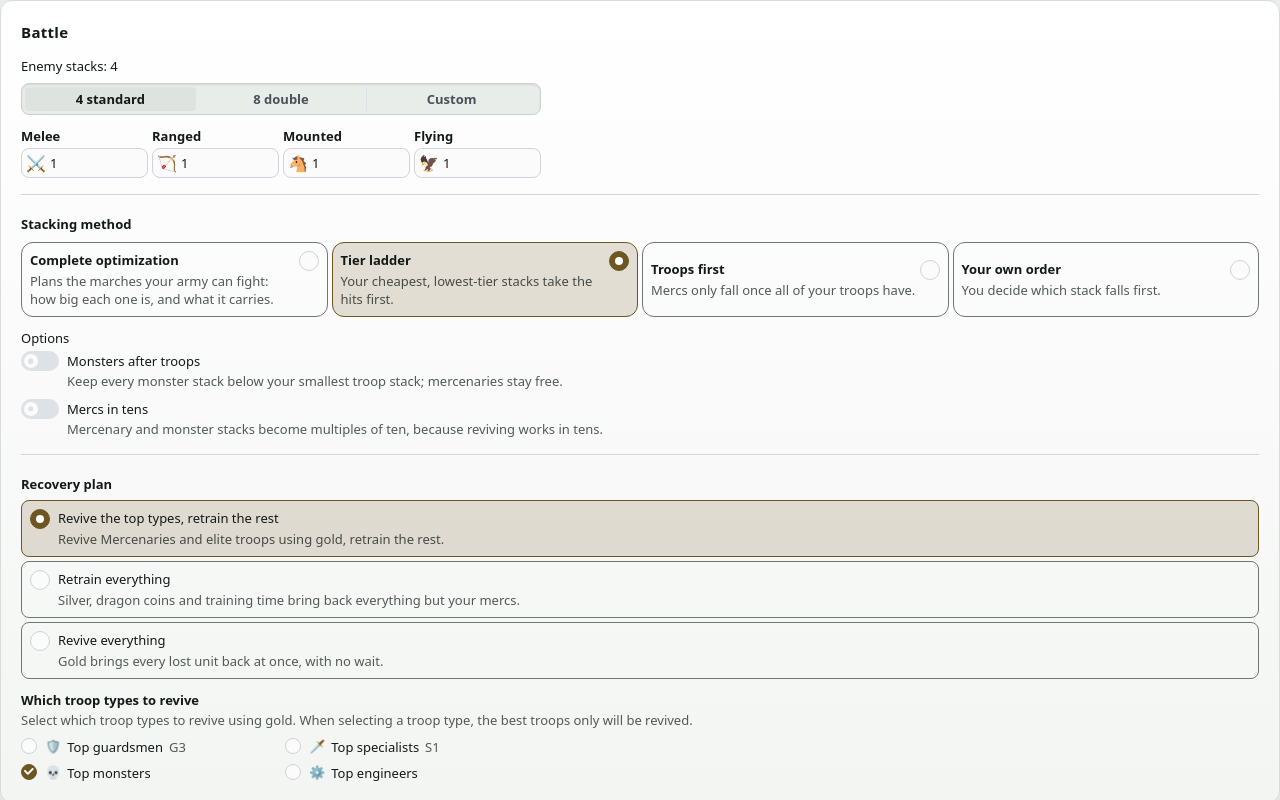
Scenario: a preset writes its squads and the caption counts them
The image size is (1280, 800).
expect the text "Enemy stacks: 4" is shown: met, box x1=21 y1=57 x2=118 y2=75
What coordinates should you click on to do the following:
click the radio button labelled "8 double"
I would click on:
 (281, 99)
Its box is x1=253 y1=90 x2=309 y2=108.
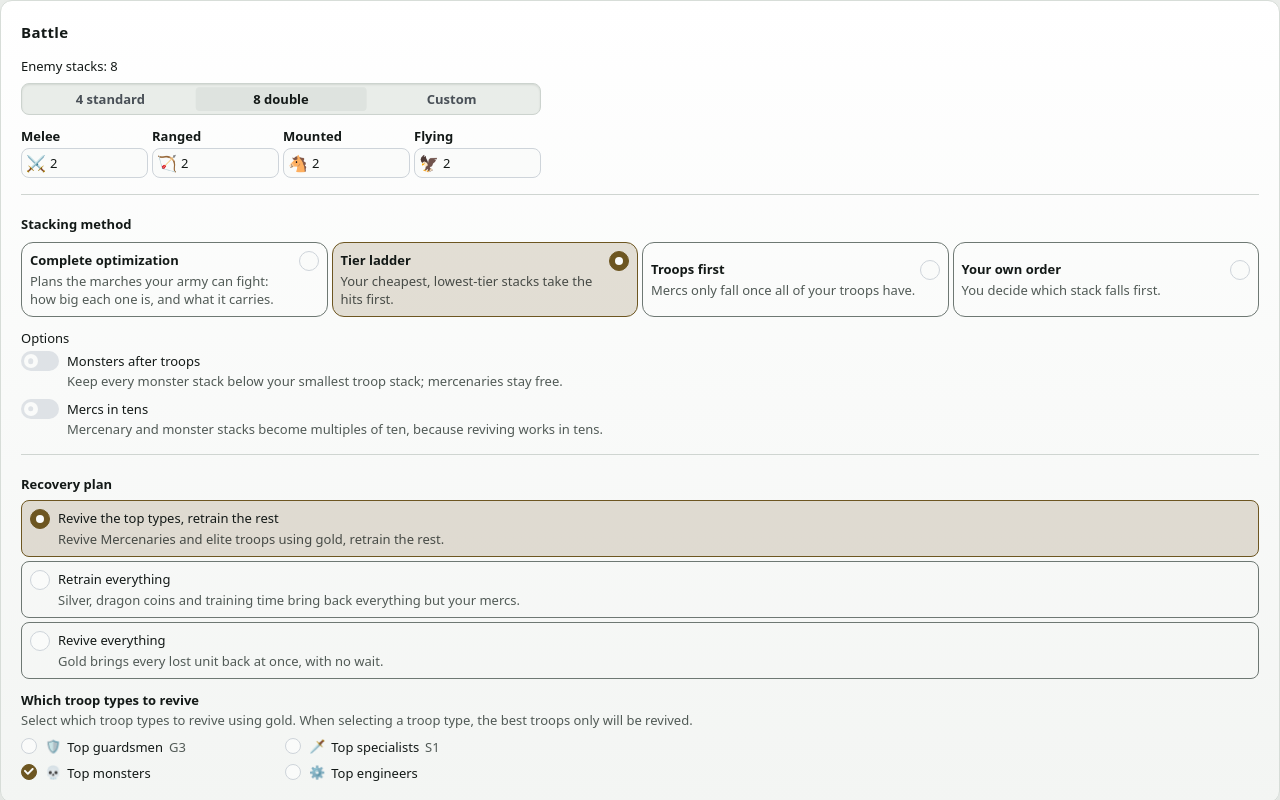
expect the text "Enemy stacks: 8" is shown: met, box x1=21 y1=57 x2=118 y2=75
